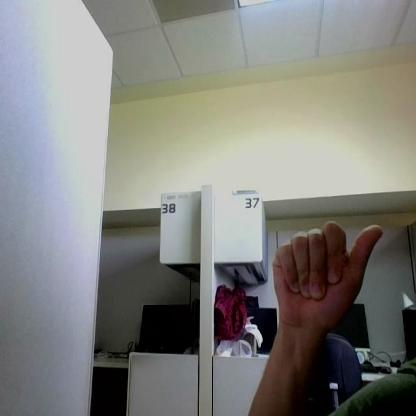A: (273, 223, 382, 324)
